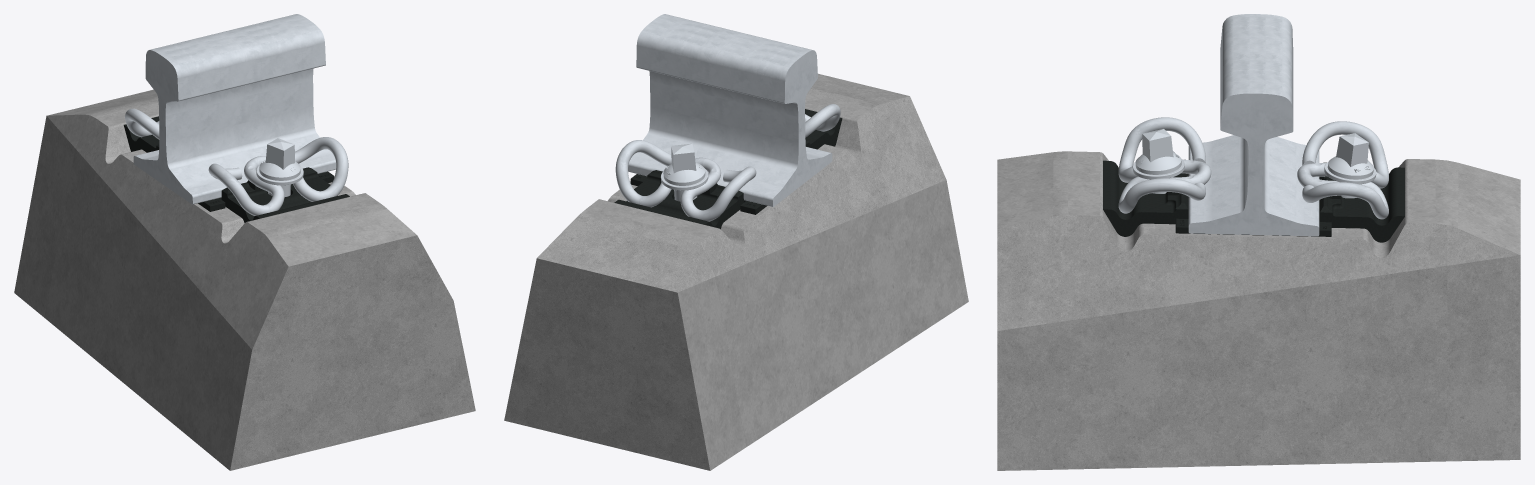
3 views of the same model, side by side, from view 1: azimuth 30°, elevation 25°; view 2: azimuth 150°, elevation 25°; view 3: azimuth 270°, elevation 25° (orthographic). The views are drawn at different scales.
Visible parts, largest first — view 1: Bryła1, Bryła1.001, Bryła1.002, Bryła1.004, Bryła4, Bryła5, Bryła2, Bryła4.001, Bryła1.003; view 2: Bryła1, Bryła1.001, Bryła1.003, Bryła1.006, Bryła2.001, Bryła5.001, Bryła4.001, Bryła2, Bryła1.002; view 3: Bryła1, Bryła1.001, Bryła1.003, Bryła1.002, Bryła2, Bryła4.001, Bryła1.006, Bryła1.004, Bryła4, Bryła2.001, Bryła5, Bryła5.001 (+1 smaller).
Boxes of the visible parts, bbox=[...] form: Bryła1: bbox=[14, 89, 475, 470]; Bryła1.001: bbox=[133, 14, 336, 204]; Bryła1.002: bbox=[221, 167, 349, 222]; Bryła1.004: bbox=[259, 138, 300, 196]; Bryła4: bbox=[295, 137, 348, 198]; Bryła5: bbox=[244, 156, 325, 212]; Bryła2: bbox=[208, 163, 269, 215]; Bryła4.001: bbox=[125, 108, 159, 139]; Bryła1.003: bbox=[123, 116, 159, 152]; Bryła1: bbox=[504, 73, 968, 470]; Bryła1.001: bbox=[628, 14, 832, 206]; Bryła1.003: bbox=[614, 170, 743, 229]; Bryła1.006: bbox=[663, 143, 705, 201]; Bryła2.001: bbox=[615, 140, 671, 204]; Bryła5.001: bbox=[639, 157, 720, 217]; Bryła4.001: bbox=[695, 166, 756, 221]; Bryła2: bbox=[805, 104, 840, 137]; Bryła1.002: bbox=[805, 109, 842, 149]; Bryła1: bbox=[997, 151, 1520, 470]; Bryła1.001: bbox=[1188, 14, 1319, 236]; Bryła1.003: bbox=[1319, 162, 1404, 242]; Bryła1.002: bbox=[1103, 159, 1188, 236]; Bryła2: bbox=[1118, 117, 1205, 172]; Bryła4.001: bbox=[1302, 121, 1388, 178]; Bryła1.006: bbox=[1327, 133, 1373, 198]; Bryła1.004: bbox=[1135, 129, 1181, 193]; Bryła4: bbox=[1118, 178, 1205, 213]; Bryła2.001: bbox=[1302, 182, 1388, 219]; Bryła5: bbox=[1118, 159, 1211, 201]; Bryła5.001: bbox=[1297, 163, 1388, 207].
Size of the model in its own units: 0.3 by 0.37 by 0.5.
Materials: 4 (3 with a texture image).
